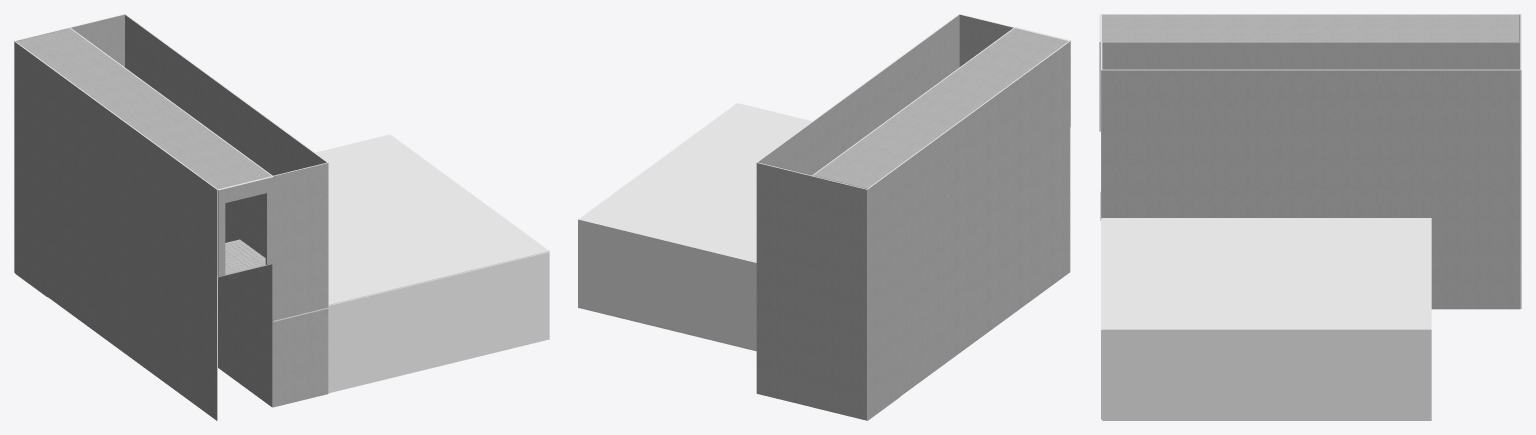
Rendered from UnderPartRoom.fbx.
The picture shows the model from 3 angles, left to right: view 1: azimuth 30°, elevation 25°; view 2: azimuth 150°, elevation 25°; view 3: azimuth 270°, elevation 25°; orthographic projection. The views are drawn at different scales.
Parts seen in each view (by area): view 1: node_id25, node_id4, node_id66, node_id43, node_id40, node_id7, node_id59 (×2), node_id31 (×2), node_id28, node_id34, node_id13; view 2: node_id4, node_id25 (×2), node_id66, node_id49, node_id10, node_id34, node_id7, node_id59, node_id40; view 3: node_id59 (×2), node_id66, node_id46, node_id31 (×2), node_id7, node_id56, node_id34, node_id43.
Boxes of the visible parts, x1,y1,x2,y2 form: node_id25: [14, 41, 216, 418]; node_id4: [89, 97, 216, 420]; node_id66: [315, 134, 549, 305]; node_id43: [328, 252, 549, 392]; node_id40: [273, 163, 328, 407]; node_id7: [16, 28, 271, 189]; node_id59 (×2): [125, 14, 328, 393]; node_id31 (×2): [70, 28, 272, 406]; node_id28: [218, 177, 273, 276]; node_id34: [71, 14, 124, 66]; node_id13: [225, 239, 265, 273]; node_id4: [943, 41, 1070, 364]; node_id25 (×2): [867, 41, 1069, 420]; node_id66: [578, 103, 811, 263]; node_id49: [579, 221, 756, 349]; node_id10: [811, 176, 866, 420]; node_id34: [756, 163, 811, 406]; node_id7: [813, 28, 1068, 188]; node_id59: [758, 15, 959, 175]; node_id40: [959, 14, 1013, 66]; node_id59 (×2): [1101, 69, 1520, 309]; node_id66: [1102, 218, 1431, 330]; node_id46: [1102, 330, 1430, 419]; node_id31 (×2): [1101, 42, 1520, 69]; node_id7: [1102, 14, 1519, 41]; node_id56: [1102, 419, 1431, 420]; node_id34: [1520, 42, 1521, 308]; node_id43: [1101, 218, 1102, 419].
Bounding box in the file's own units: 0.512 × 0.3413 × 0.5439.
45 materials, 25 textured.
